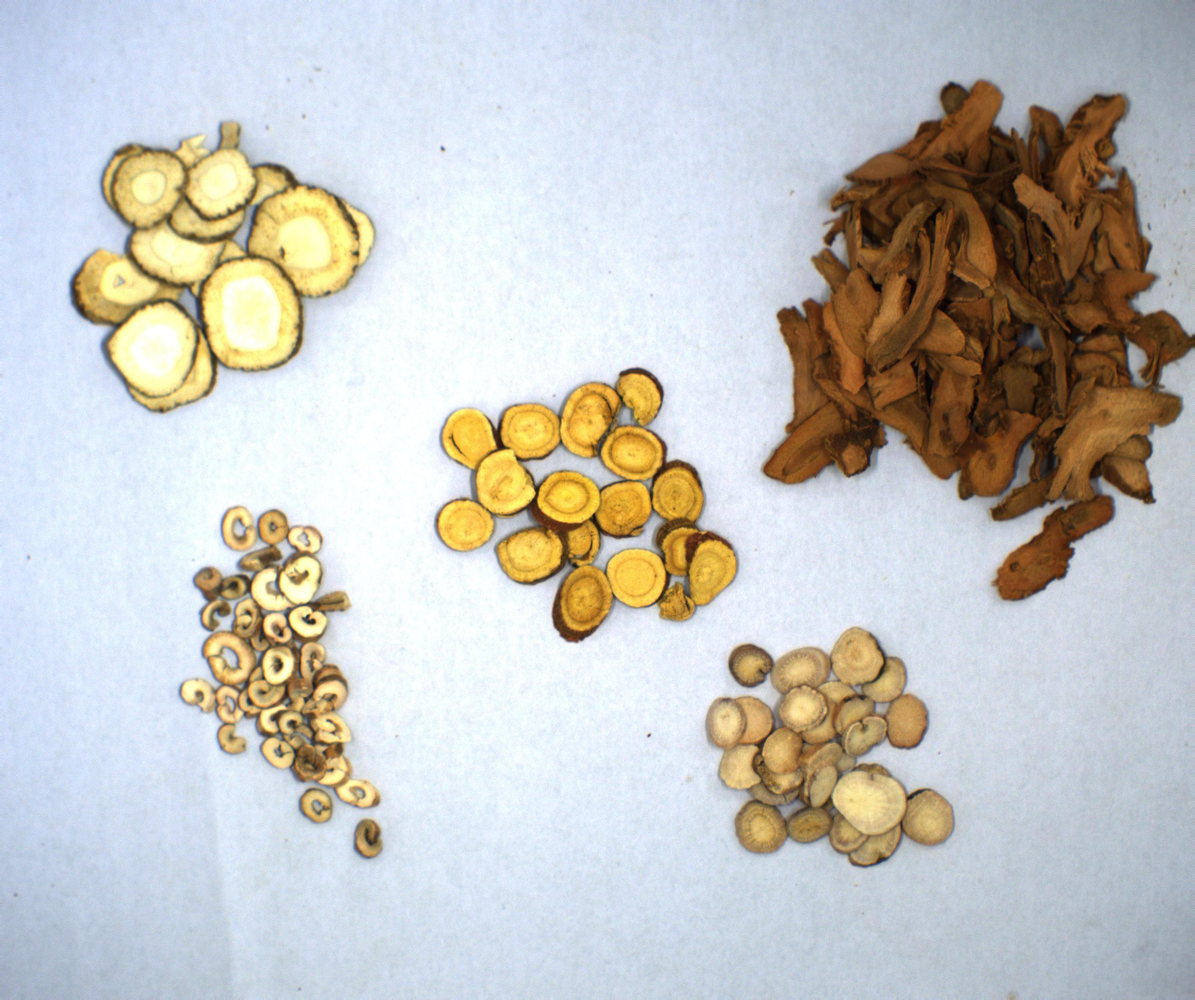baishao: (709, 646, 961, 860)
baizhi: (76, 125, 377, 405)
gancao: (423, 369, 732, 638)
gaoliangjiang: (758, 77, 1192, 603)
mudanpi: (183, 502, 391, 868)
